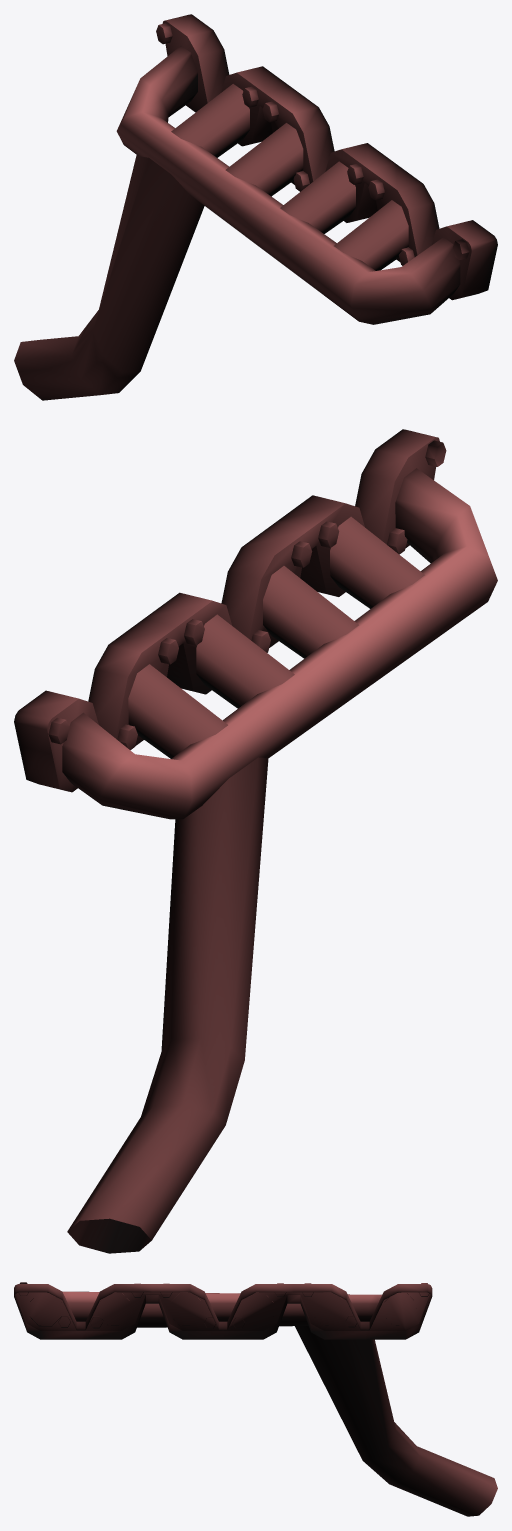
Rendered from JZ_ExhaustManifold1.fbx.
The picture shows the model from 3 angles, top to bottom: view 1: azimuth 30°, elevation 25°; view 2: azimuth 150°, elevation 25°; view 3: azimuth 270°, elevation 25°; orthographic projection. The views are drawn at different scales.
Visible parts, largest first — view 1: ExhaustManifold1; view 2: ExhaustManifold1; view 3: ExhaustManifold1.
Part boxes in pixels (x1,y1,x2,y2): ExhaustManifold1: [14, 14, 497, 400]; ExhaustManifold1: [14, 429, 497, 1253]; ExhaustManifold1: [14, 1282, 497, 1516].
Size of the model in its own units: 17.93 by 47.65 by 81.14.
